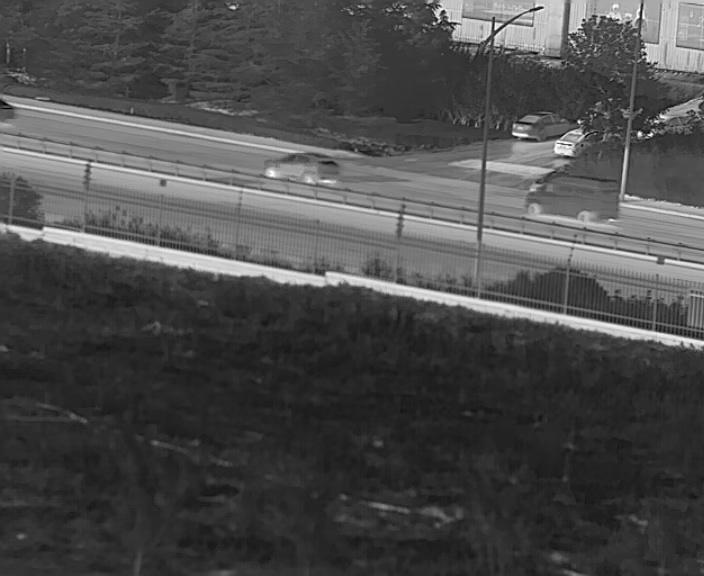vehicle: (528, 176, 619, 223), (264, 151, 340, 185), (510, 112, 560, 139), (553, 126, 587, 157)
